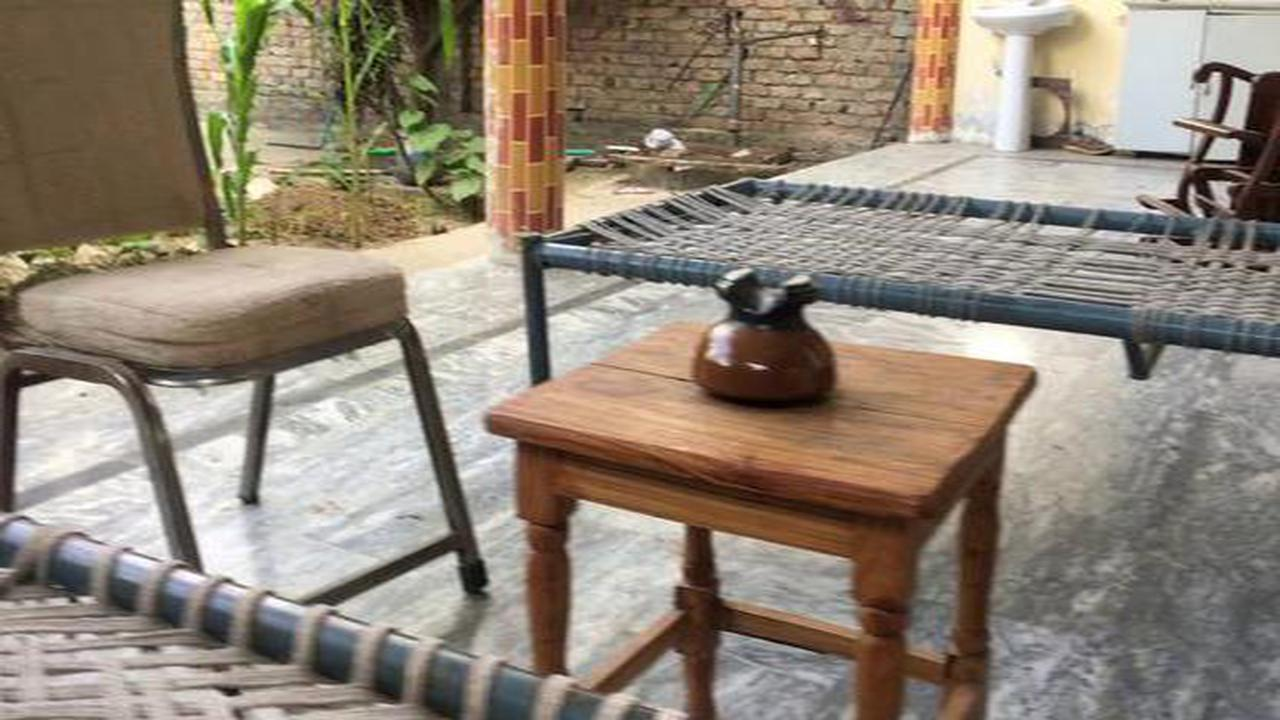insulator_pin: (668, 248, 865, 426)
